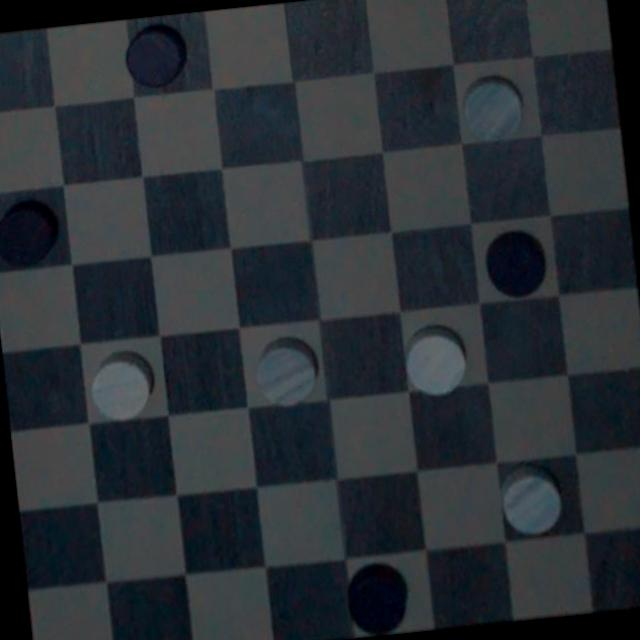BOARD: (0, 0, 640, 640)
black: (339, 552, 420, 639), (479, 217, 552, 306), (114, 17, 194, 95), (0, 200, 67, 277)
white: (245, 328, 328, 417), (492, 456, 572, 540), (398, 322, 476, 404), (84, 348, 162, 430), (456, 70, 534, 148)
